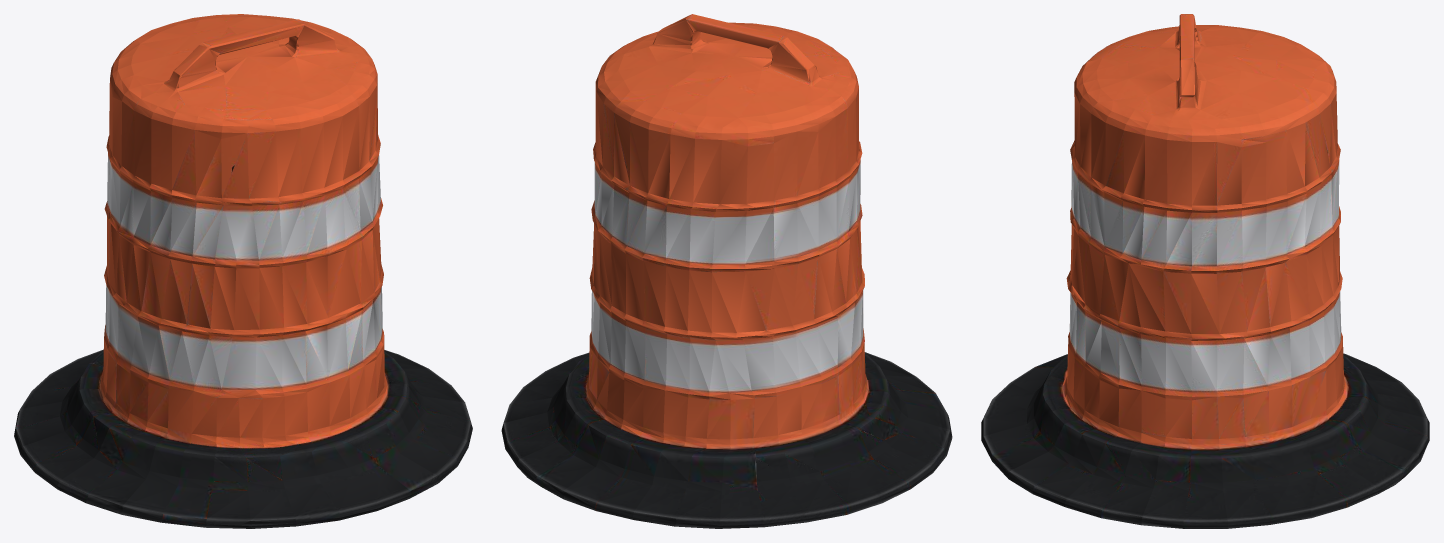
File: barrel.glb
The picture shows the model from 3 angles, left to right: view 1: azimuth 30°, elevation 25°; view 2: azimuth 150°, elevation 25°; view 3: azimuth 270°, elevation 25°; orthographic projection. The views are drawn at different scales.
Visible parts, largest first — view 1: Prop_barrel; view 2: Prop_barrel; view 3: Prop_barrel.
Boxes of the visible parts, <box> form: Prop_barrel: <box>14,14,472,528</box>; Prop_barrel: <box>501,14,952,528</box>; Prop_barrel: <box>981,14,1429,528</box>.
Bounding box in the file's own units: 0.6194 × 0.6156 × 0.62.
Materials: 1 (1 with a texture image).
